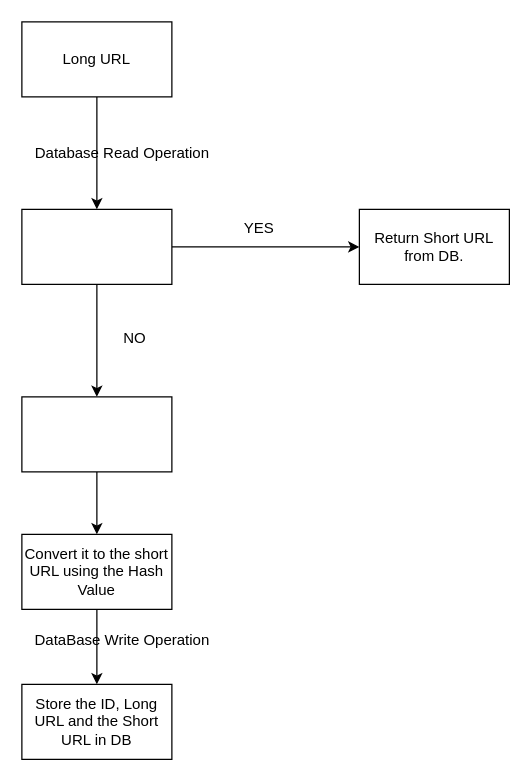
This 531x781 diagram has some shape labels left out. The shapes that lost their labels are listed below. From the top down, each one's box as (x1, y1, x2, y2) in pixels, then its label:
(21, 208, 172, 284): Is Present in DB
(21, 396, 172, 472): Create Unique ID
